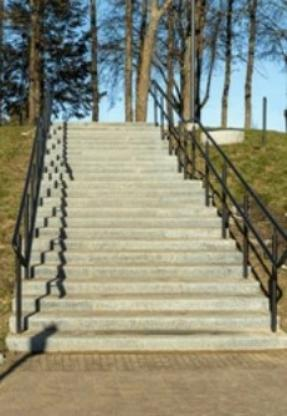stair: (30, 87, 276, 378)
